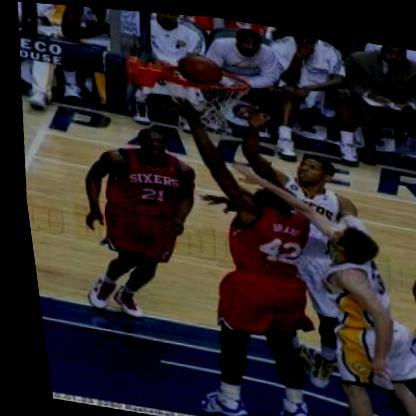basketball: (170, 42, 227, 89)
